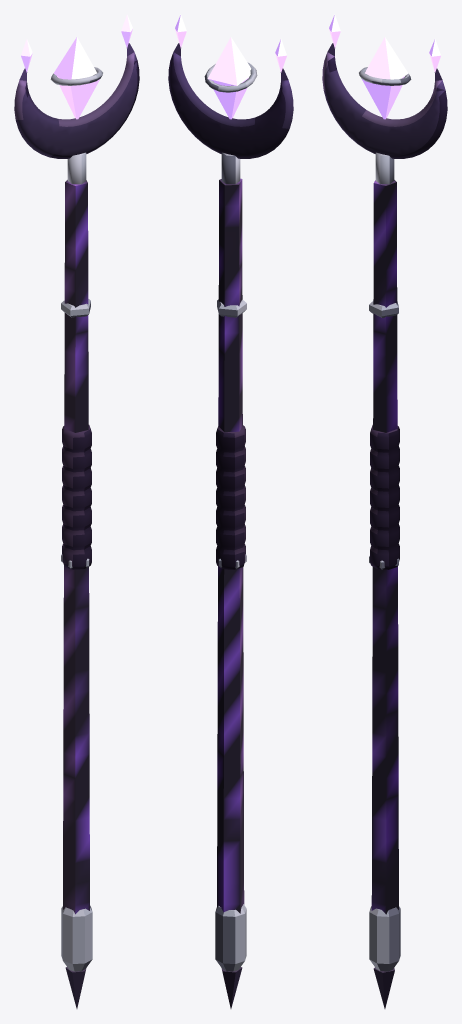
Rendered from st_void_staff.glb.
The picture shows the model from 3 angles, left to right: view 1: azimuth 30°, elevation 25°; view 2: azimuth 150°, elevation 25°; view 3: azimuth 330°, elevation 25°; orthographic projection.
Parts seen in each view (by area): view 1: Weapon; view 2: Weapon; view 3: Weapon.
Part boxes in pixels (x1,y1,x2,y2): Weapon: [14, 14, 139, 1008]; Weapon: [168, 14, 293, 1008]; Weapon: [322, 14, 447, 1008].
Size of the model in its own units: 0.2497 by 1.87 by 0.0902.
